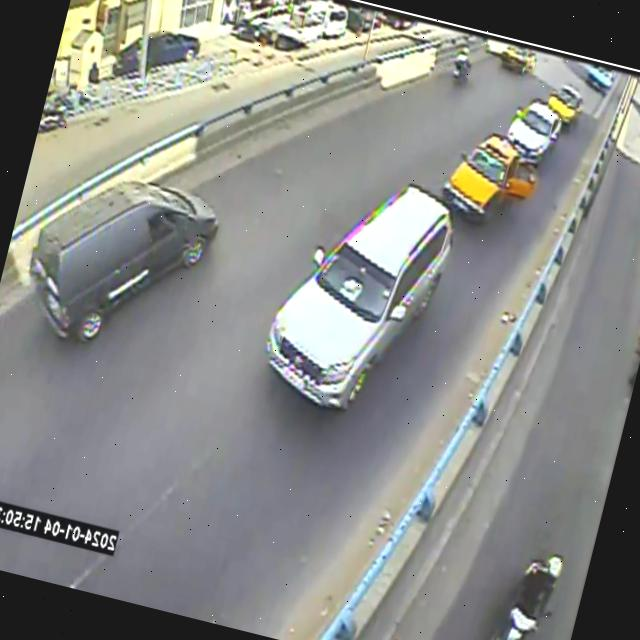car: (266, 185, 453, 409), (29, 182, 218, 342), (443, 133, 537, 220), (507, 102, 560, 163), (548, 84, 583, 125), (586, 64, 615, 95)
